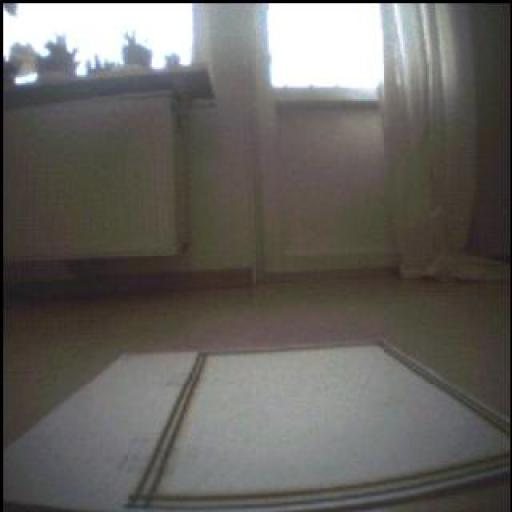Pad: (5, 343, 512, 512), (132, 344, 510, 512)
